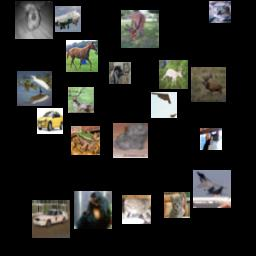airplane: (193, 170, 231, 208), (151, 92, 177, 118), (55, 6, 81, 32)
automobile: (32, 200, 70, 238), (37, 108, 63, 134)
bird: (17, 71, 52, 106), (109, 62, 131, 84)
cat: (113, 123, 148, 158), (122, 195, 151, 224), (164, 192, 190, 218), (200, 128, 222, 150), (209, 1, 231, 23)
deer: (121, 10, 159, 48), (191, 67, 226, 102), (159, 60, 188, 89), (68, 87, 94, 113)
dog: (15, 1, 53, 39), (74, 191, 112, 229)
frog: (71, 126, 100, 155)
